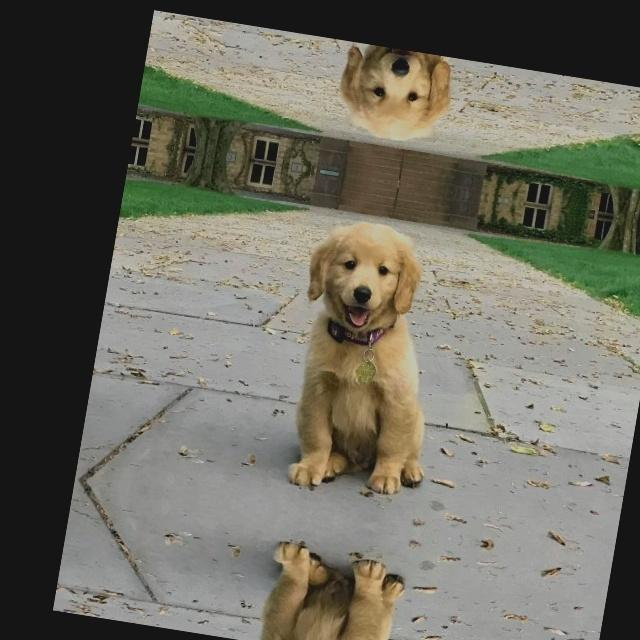dog: (288, 205, 438, 354), (322, 40, 466, 156)
